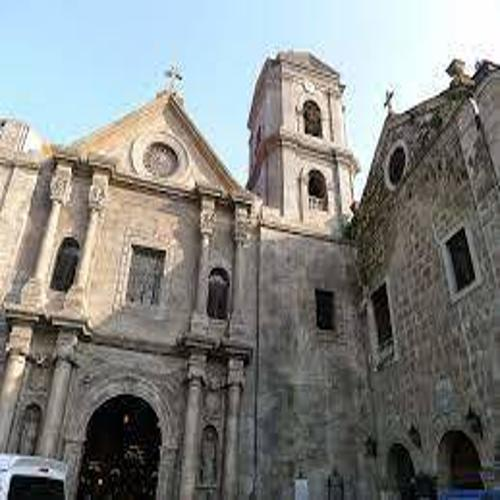San Agustin Church: (41, 44, 364, 500)
